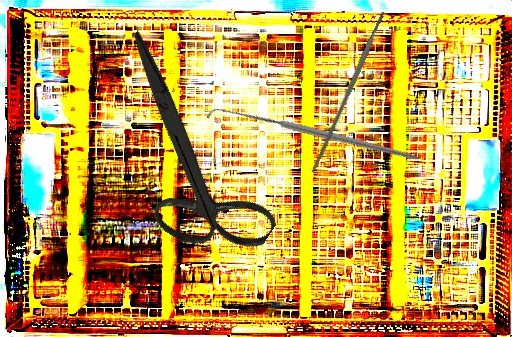Hook Surgical: (205, 30, 420, 243)
Iris Scissors: (53, 29, 325, 281)
Scalpel Handle: (309, 11, 388, 174)
